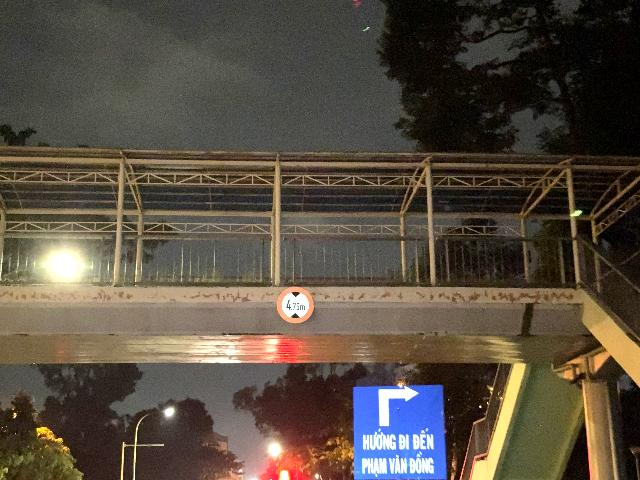han-che-chieu-cao: (276, 285, 315, 325)
